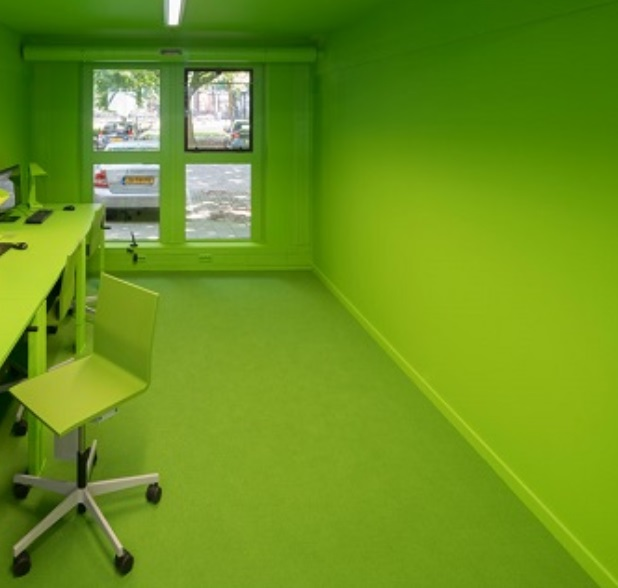Green: (23, 244, 608, 583)
